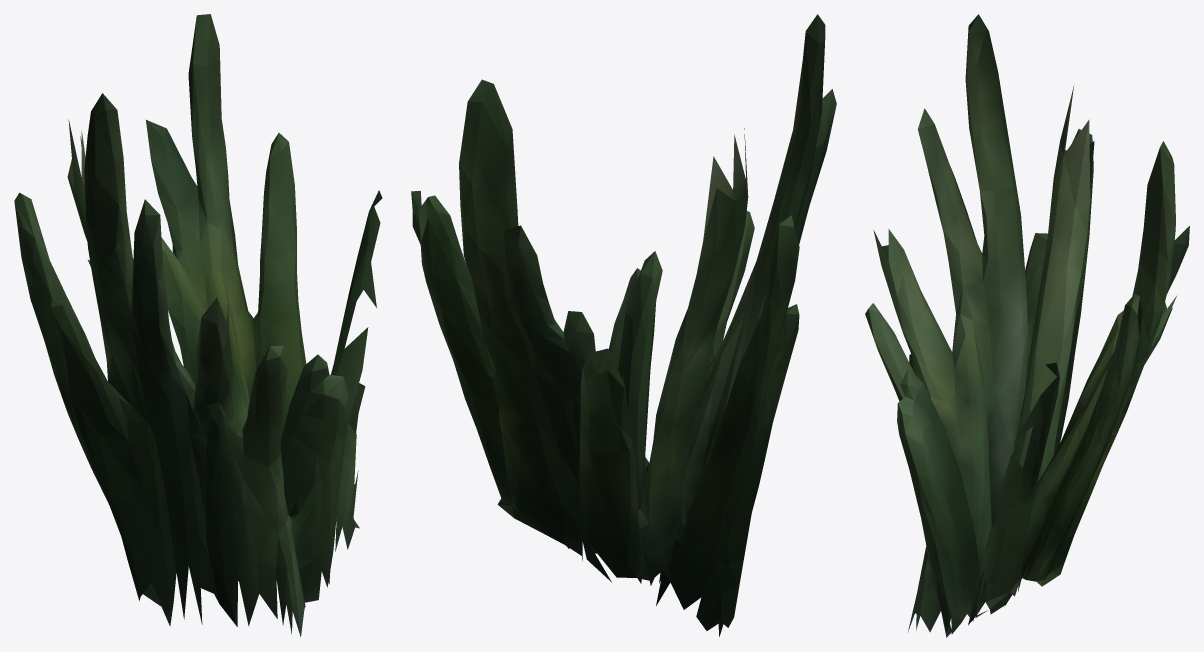
Rendered from terrain4_plant_0.glb.
The picture shows the model from 3 angles, left to right: view 1: azimuth 30°, elevation 25°; view 2: azimuth 150°, elevation 25°; view 3: azimuth 270°, elevation 25°; orthographic projection. The views are drawn at different scales.
Visible parts, largest first — view 1: plant_0; view 2: plant_0; view 3: plant_0.
Part boxes in pixels (x1=…): plant_0: x1=14, y1=14, x2=382, y2=637; plant_0: x1=411, y1=14, x2=836, y2=636; plant_0: x1=865, y1=14, x2=1189, y2=637.
Size of the model in its own units: 8.75 by 13.35 by 7.22.
1 material, 1 textured.
